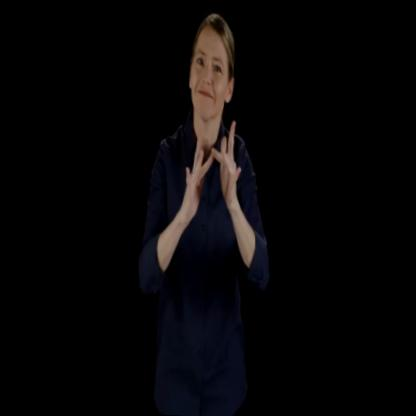Internet: (176, 115, 249, 236)
